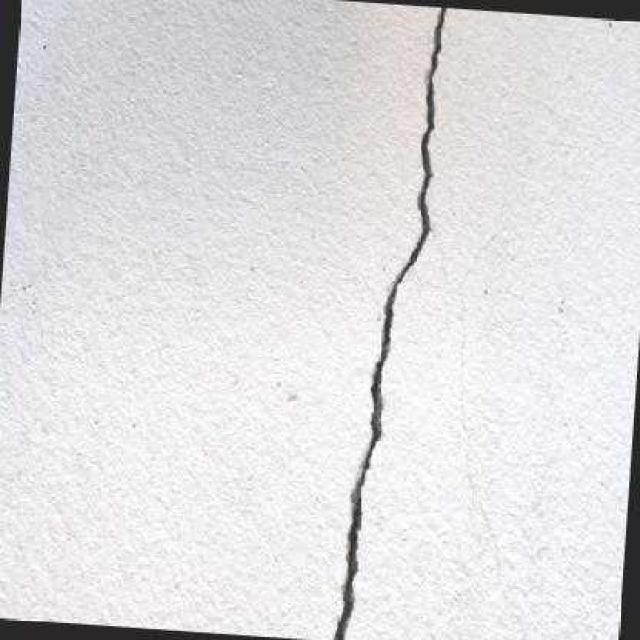D00: (334, 8, 447, 640)
